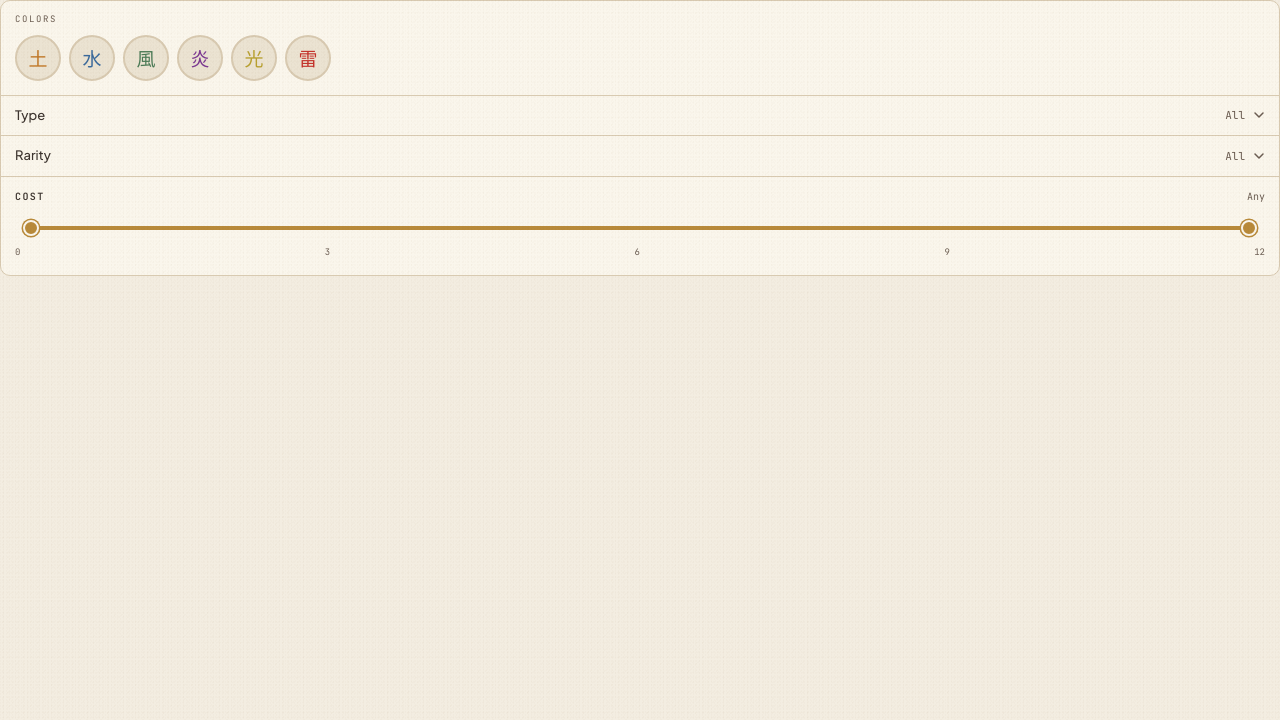
FilterPanel — rarities › renders all 5 canonical rarity ids after opening accordion
Click the text "Rarity": (33, 156) [15,146,51,166]
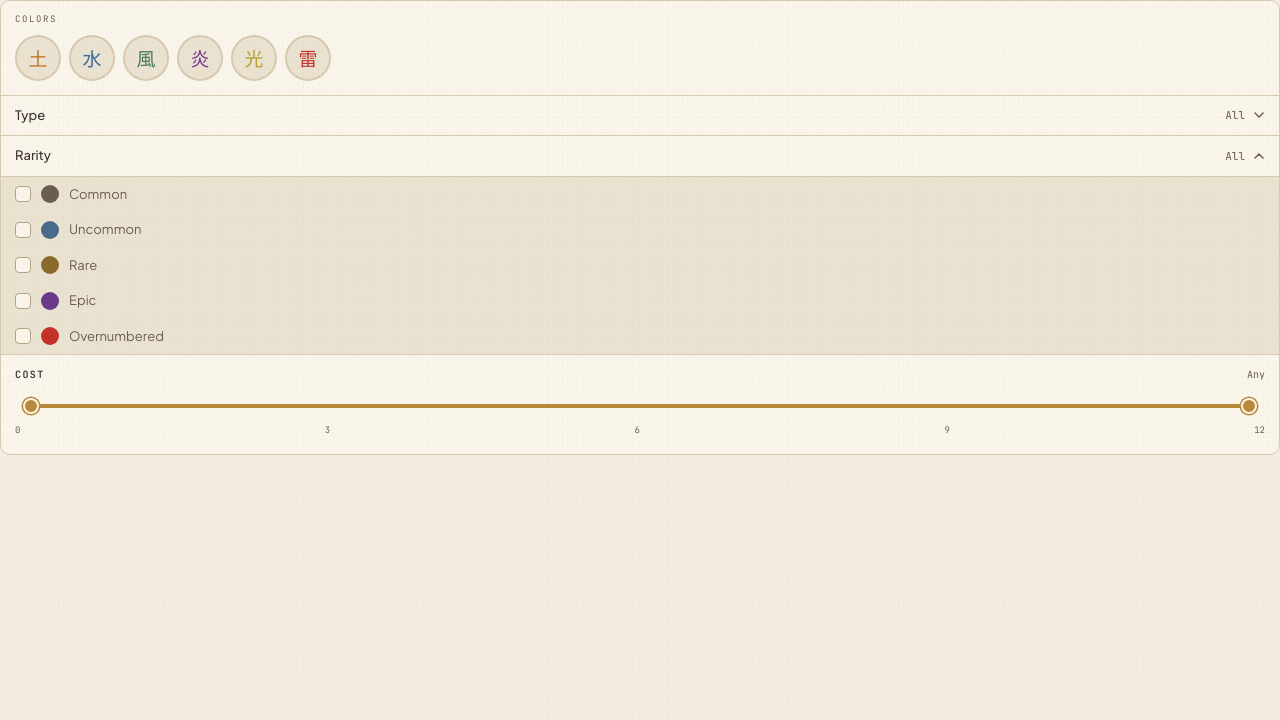
Result: the text "common" is shown at [69,184,127,204]
Result: the text "uncommon" is shown at [69,220,141,240]
Result: the text "rare" is shown at [69,256,97,275]
